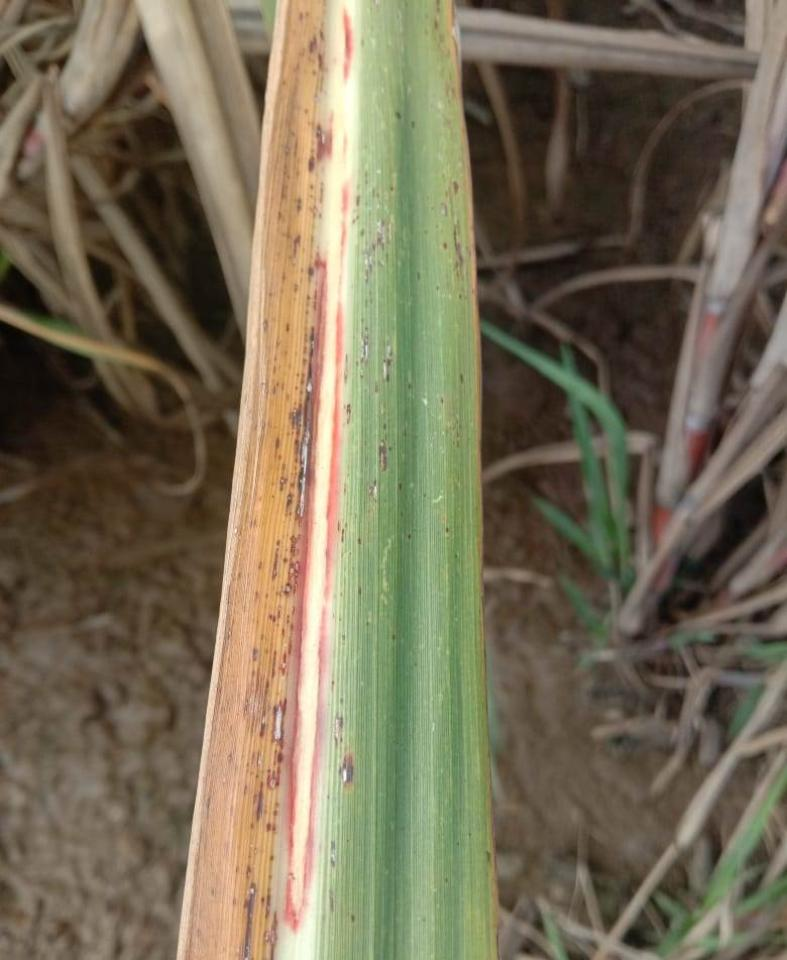RedRot: (284, 287, 344, 933), (342, 7, 354, 83), (341, 182, 348, 260), (325, 109, 335, 159)
Rust: (292, 324, 315, 519), (284, 533, 302, 596), (244, 879, 257, 959), (287, 402, 303, 465), (452, 222, 468, 283), (270, 697, 287, 749), (263, 909, 280, 959), (257, 677, 270, 738), (382, 344, 395, 382), (372, 216, 386, 251), (360, 324, 370, 366), (266, 766, 282, 792), (255, 780, 264, 823), (272, 539, 281, 582), (342, 754, 353, 787), (376, 439, 387, 472), (334, 715, 344, 747), (317, 122, 325, 161), (364, 250, 372, 283), (306, 32, 318, 54), (292, 233, 302, 258), (265, 886, 272, 919), (271, 649, 278, 679), (284, 492, 293, 515), (273, 435, 281, 460), (330, 840, 337, 865), (318, 179, 325, 204), (346, 402, 353, 426), (306, 264, 314, 284), (307, 156, 316, 173), (317, 53, 325, 71), (295, 196, 302, 216), (252, 646, 260, 662), (281, 652, 286, 677), (279, 475, 285, 492), (273, 802, 280, 816), (288, 638, 293, 655), (355, 193, 361, 207), (278, 751, 284, 764), (319, 29, 325, 41), (441, 241, 448, 251), (273, 750, 277, 766), (280, 628, 286, 638), (269, 614, 275, 623), (266, 823, 271, 832), (272, 823, 277, 832)
